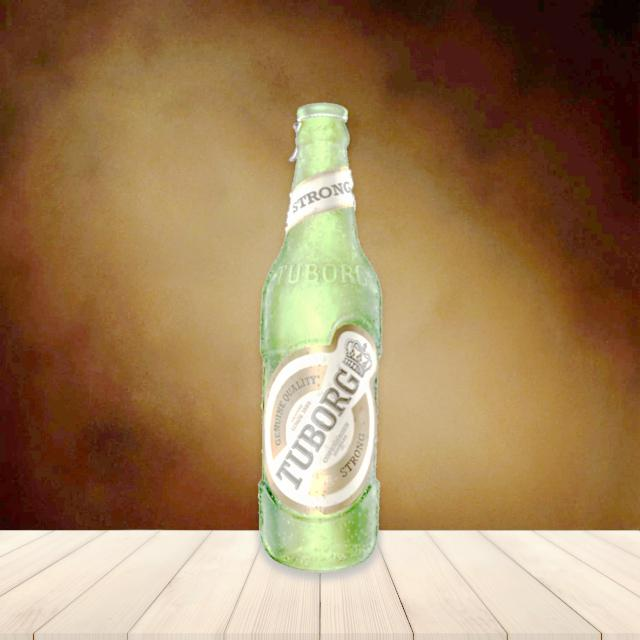drink: (260, 105, 385, 572)
